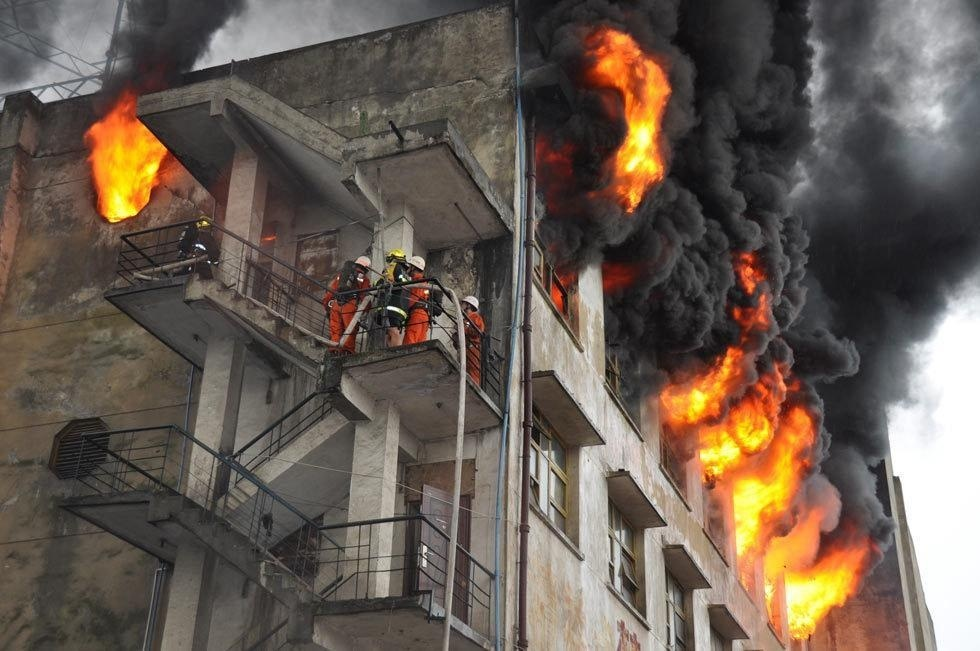fire: (660, 257, 868, 625), (594, 30, 669, 214), (86, 95, 167, 222)
